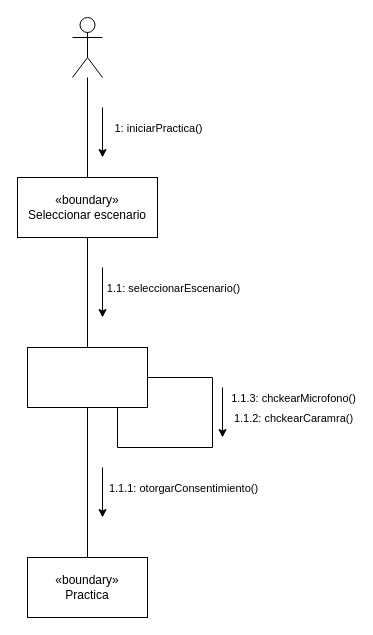
Image size: 373x635. Some labels were removed from this diagram. Here are the shapes that lost their labels. From the top down, the box of each, then its label:
(72, 16, 102, 78): Vocero
(26, 346, 148, 408): «boundary» Consentimiento y check técnico
